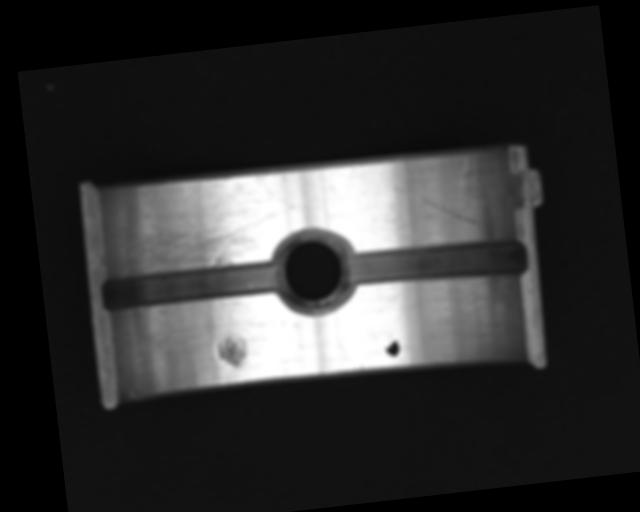blot: (383, 334, 401, 358)
bruise: (216, 333, 251, 368)
gap: (345, 233, 532, 295), (98, 256, 285, 315)
hole: (268, 225, 358, 320)
nick: (392, 175, 481, 237)
scratch: (106, 189, 284, 278)
